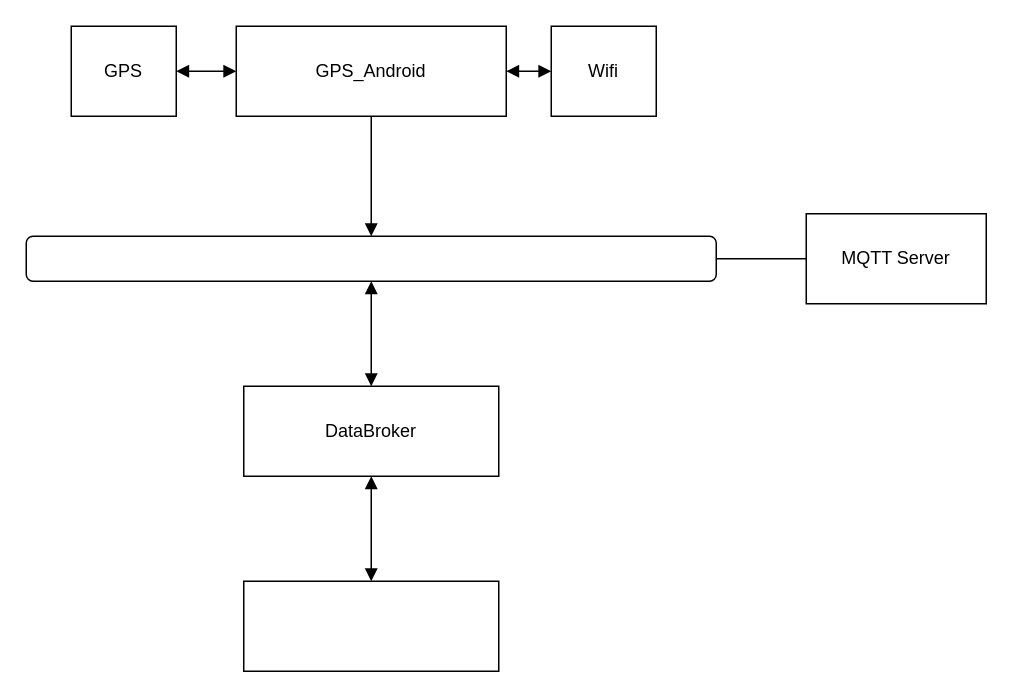
This 1013x698 diagram has some shape labels left out. The centre of each missing label's shape, as x and y in pixels:
"Protocol Bus" goes at point (370, 258).
"Storage" goes at point (370, 625).
